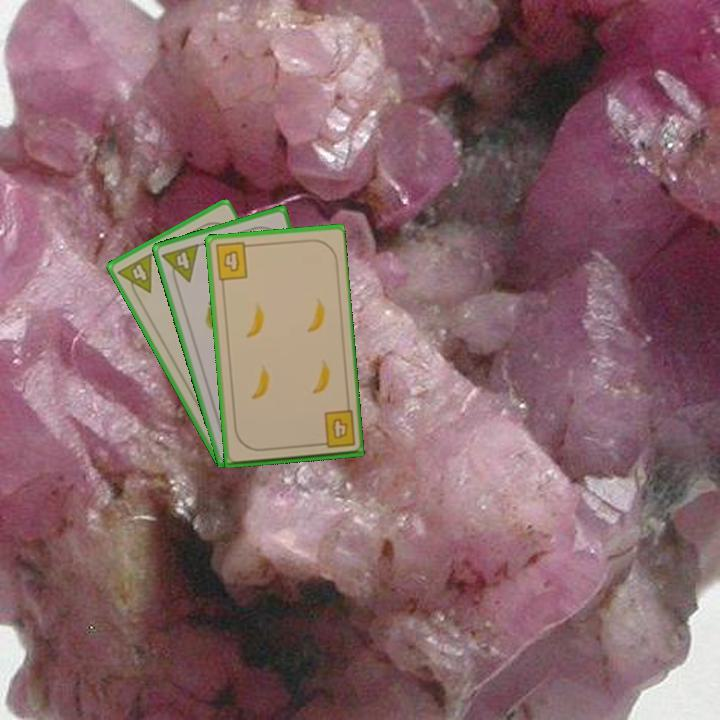4b: (313, 407, 358, 451), (212, 239, 254, 283)
4p: (114, 249, 155, 302), (159, 240, 202, 289)
